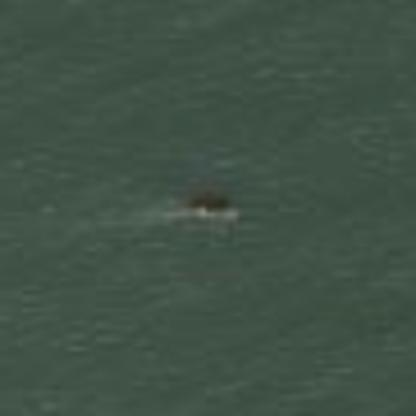ship: (186, 195, 248, 226)
